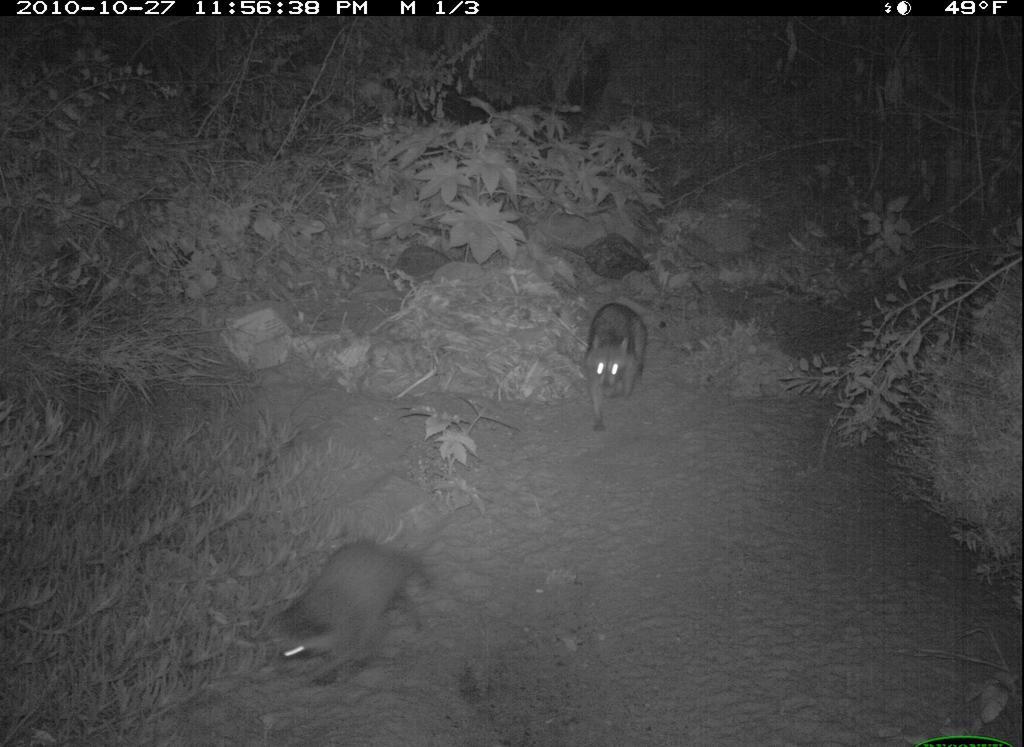raccoon: (259, 524, 434, 693), (579, 297, 656, 437)
